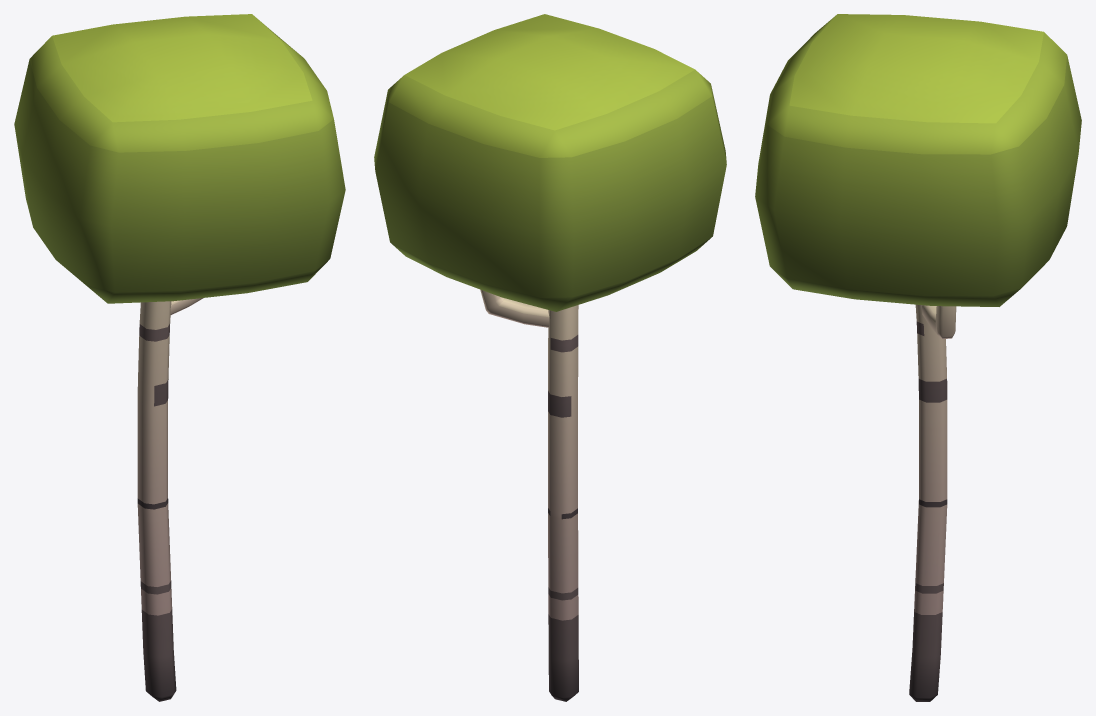
The model's file is birch_tree_col1_08.fbx.
3 views of the same model, side by side, from view 1: azimuth 30°, elevation 25°; view 2: azimuth 150°, elevation 25°; view 3: azimuth 270°, elevation 25° (orthographic). The views are drawn at different scales.
Parts seen in each view (by area): view 1: birch_tree_col1_08; view 2: birch_tree_col1_08; view 3: birch_tree_col1_08.
Boxes of the visible parts, <box> form: birch_tree_col1_08: <box>14,14,345,701</box>; birch_tree_col1_08: <box>374,14,726,701</box>; birch_tree_col1_08: <box>755,14,1081,701</box>.
Bounding box in the file's own units: 280 × 618 × 280.
Materials: 1 (1 with a texture image).
